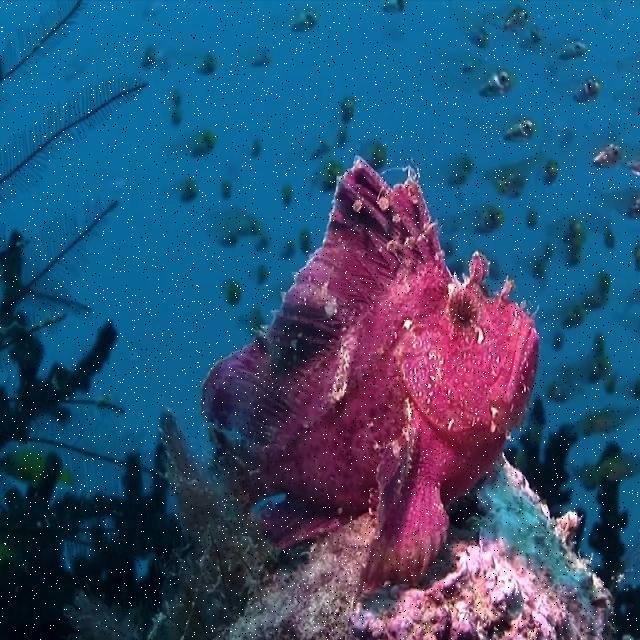aquatic plants: (0, 437, 176, 639), (146, 428, 270, 635), (3, 234, 116, 447), (6, 83, 136, 195), (11, 205, 106, 305), (2, 8, 73, 101)
fish: (199, 156, 538, 598)
reefs: (233, 449, 610, 634)
